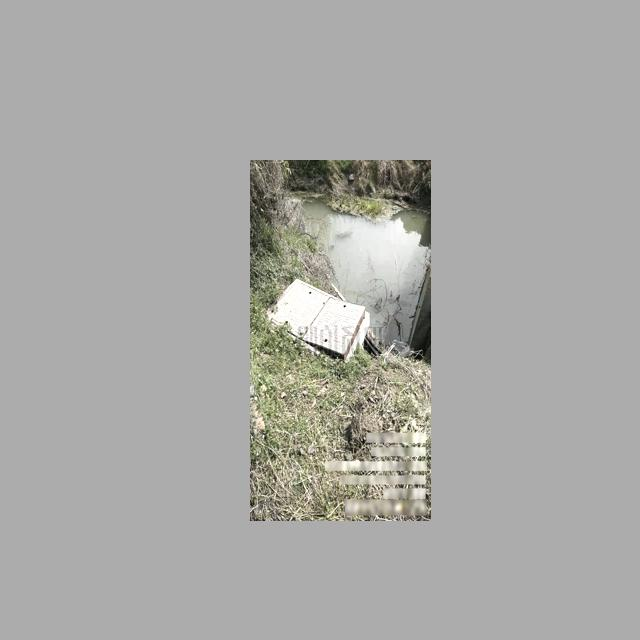uncovered: (266, 277, 371, 361)
